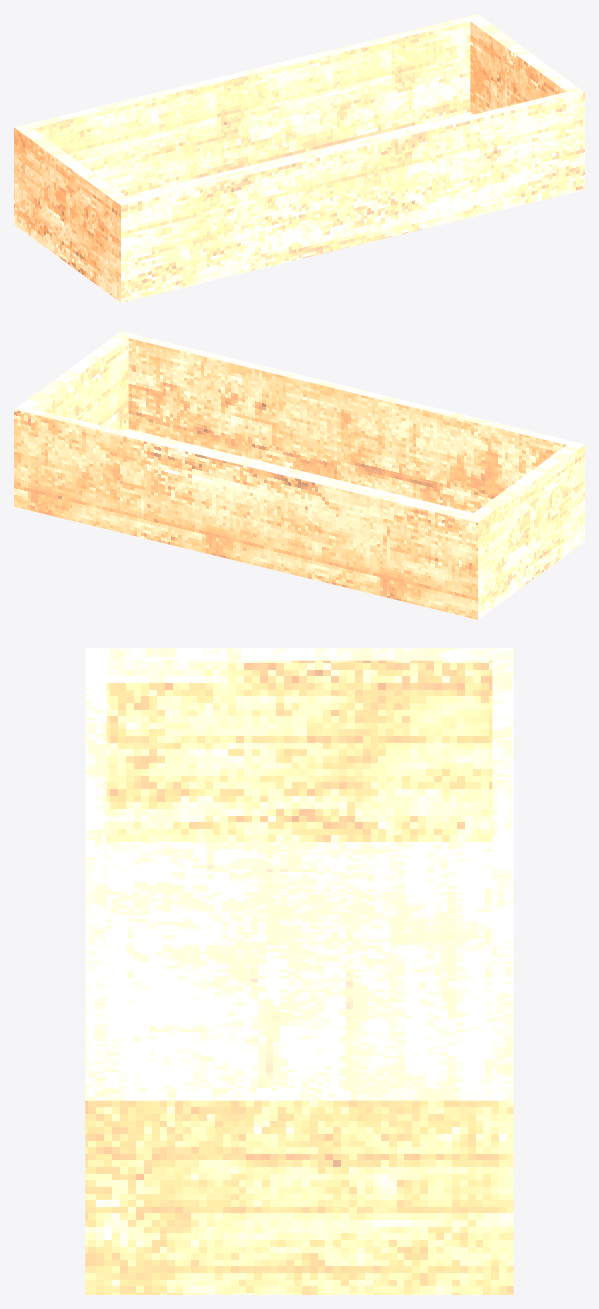
The model's file is Aqua_Trough.glb.
3 views of the same model, one above another, from view 1: azimuth 30°, elevation 25°; view 2: azimuth 150°, elevation 25°; view 3: azimuth 270°, elevation 25° (orthographic). The views are drawn at different scales.
Parts seen in each view (by area): view 1: Aqua_Trough; view 2: Aqua_Trough; view 3: Aqua_Trough.
Part boxes in pixels (x1,y1,x2,y2): Aqua_Trough: [14, 14, 584, 302]; Aqua_Trough: [14, 331, 584, 619]; Aqua_Trough: [85, 648, 513, 1294].
Size of the model in its own units: 10 by 2 by 4.
